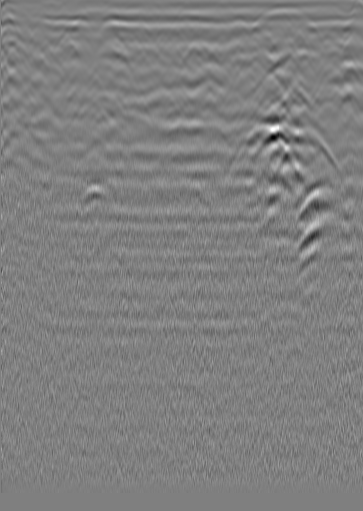가스: (75, 181, 113, 208)
상수: (334, 23, 354, 43)
오수: (26, 22, 46, 42)
우수: (177, 23, 197, 43)
